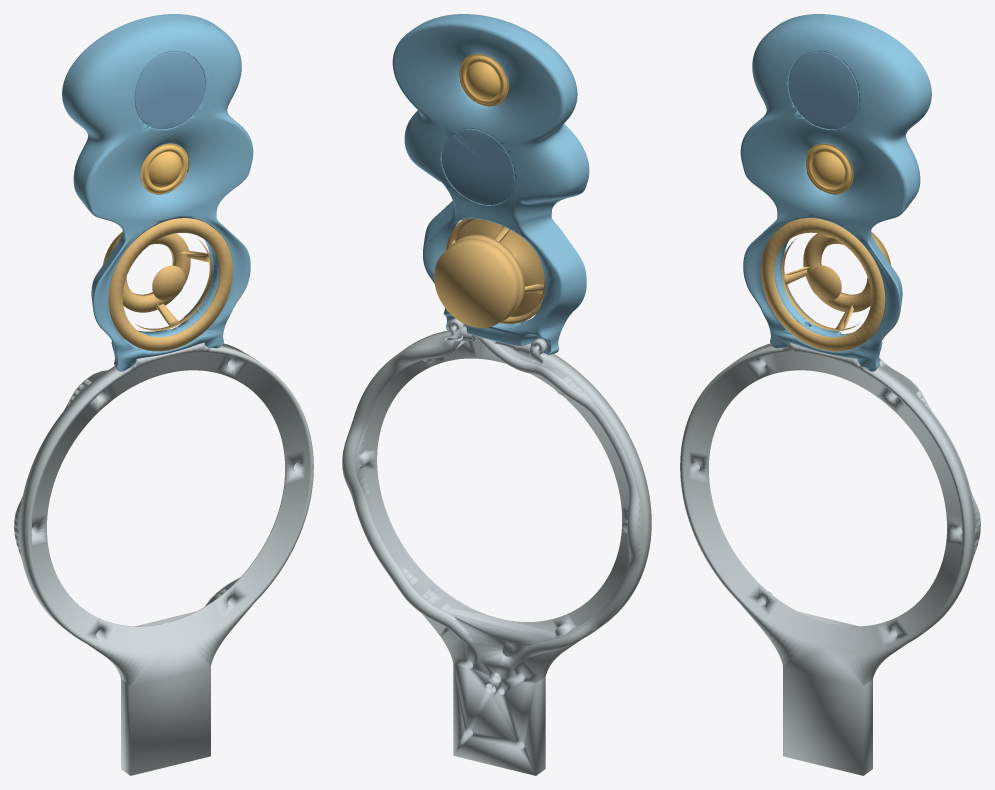
File: nd25fn4_color_review.glb
3 renders of one model, left to right at view 1: azimuth 30°, elevation 25°; view 2: azimuth 150°, elevation 25°; view 3: azimuth 330°, elevation 25°, orthographic. The views are drawn at different scales.
Parts seen in each view (by area): view 1: existing_LM_carrier, fused_UM_V4, SEAS_MU10_reference_terminals_omitted, cap_upper, Dayton_ND25FN4_0_reference; view 2: existing_LM_carrier, fused_UM_V4, SEAS_MU10_reference_terminals_omitted, cap_lower, Dayton_ND25FN4_1_reference; view 3: existing_LM_carrier, fused_UM_V4, SEAS_MU10_reference_terminals_omitted, cap_upper, Dayton_ND25FN4_0_reference.
Part boxes in pixels (box(x1,y1,x2,y2)): existing_LM_carrier: box(14, 342, 313, 775); fused_UM_V4: box(62, 14, 253, 371); SEAS_MU10_reference_terminals_omitted: box(103, 218, 233, 351); cap_upper: box(134, 51, 205, 129); Dayton_ND25FN4_0_reference: box(140, 143, 188, 194); existing_LM_carrier: box(342, 318, 651, 775); fused_UM_V4: box(392, 14, 589, 354); SEAS_MU10_reference_terminals_omitted: box(434, 218, 545, 327); cap_lower: box(442, 129, 514, 204); Dayton_ND25FN4_1_reference: box(459, 54, 508, 106); existing_LM_carrier: box(680, 342, 980, 775); fused_UM_V4: box(740, 14, 931, 371); SEAS_MU10_reference_terminals_omitted: box(760, 218, 890, 351); cap_upper: box(788, 51, 859, 129); Dayton_ND25FN4_0_reference: box(806, 143, 853, 194).
Bounding box in the file's own units: 0.2279 × 0.5556 × 0.0446.
